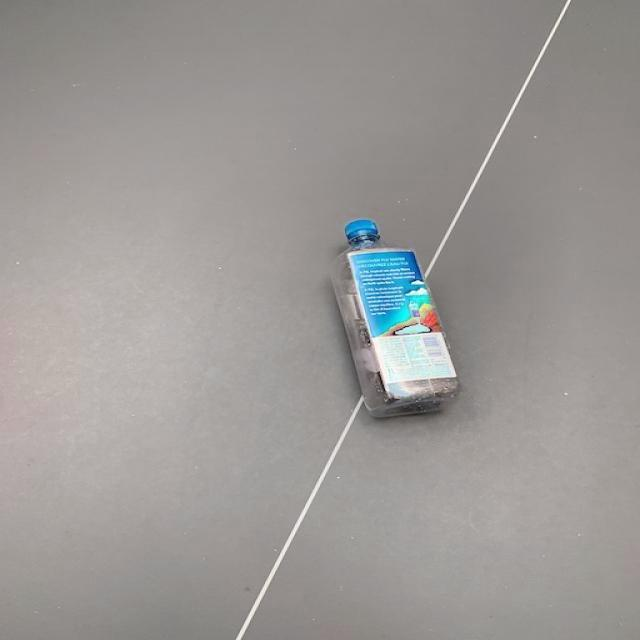bottle: (328, 219, 462, 418)
